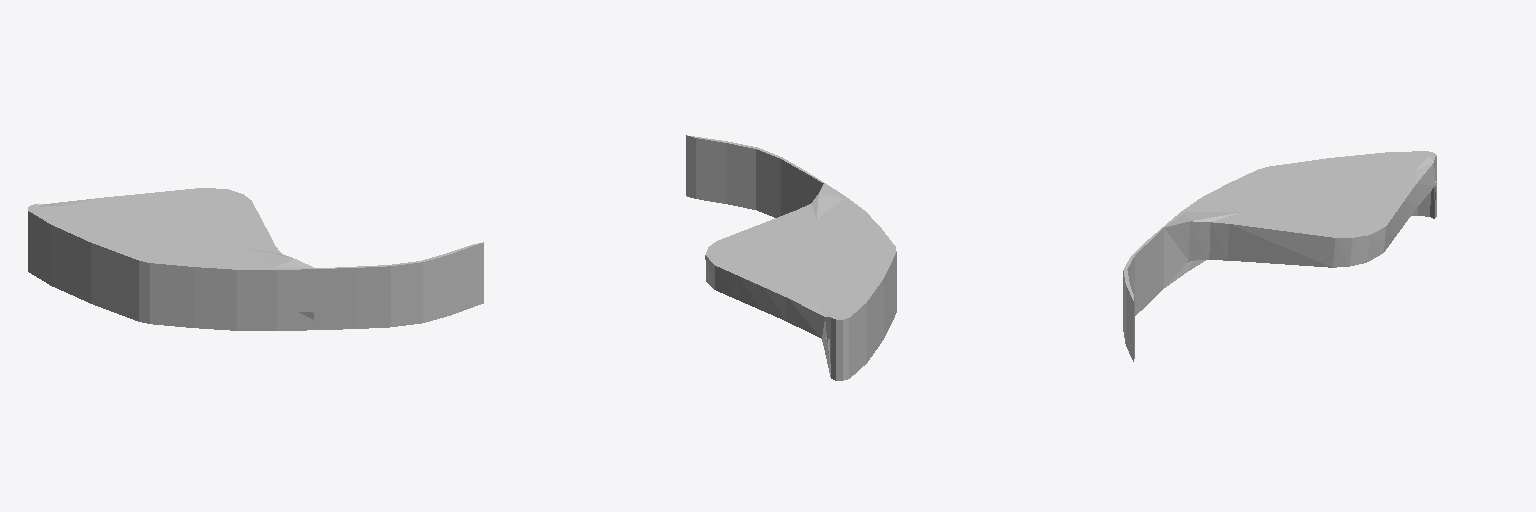
Rendered from Bucket Plastic v2.obj.
3 renders of one model, left to right at view 1: azimuth 30°, elevation 25°; view 2: azimuth 150°, elevation 25°; view 3: azimuth 270°, elevation 25°, orthographic.
Visible parts, largest first — view 1: Cube; view 2: Cube; view 3: Cube.
Boxes of the visible parts, x1=… form: Cube: x1=28, y1=188, x2=483, y2=330; Cube: x1=686, y1=135, x2=896, y2=380; Cube: x1=1123, y1=151, x2=1436, y2=361.
Size of the model in its own units: 10.59 by 2.07 by 9.29.